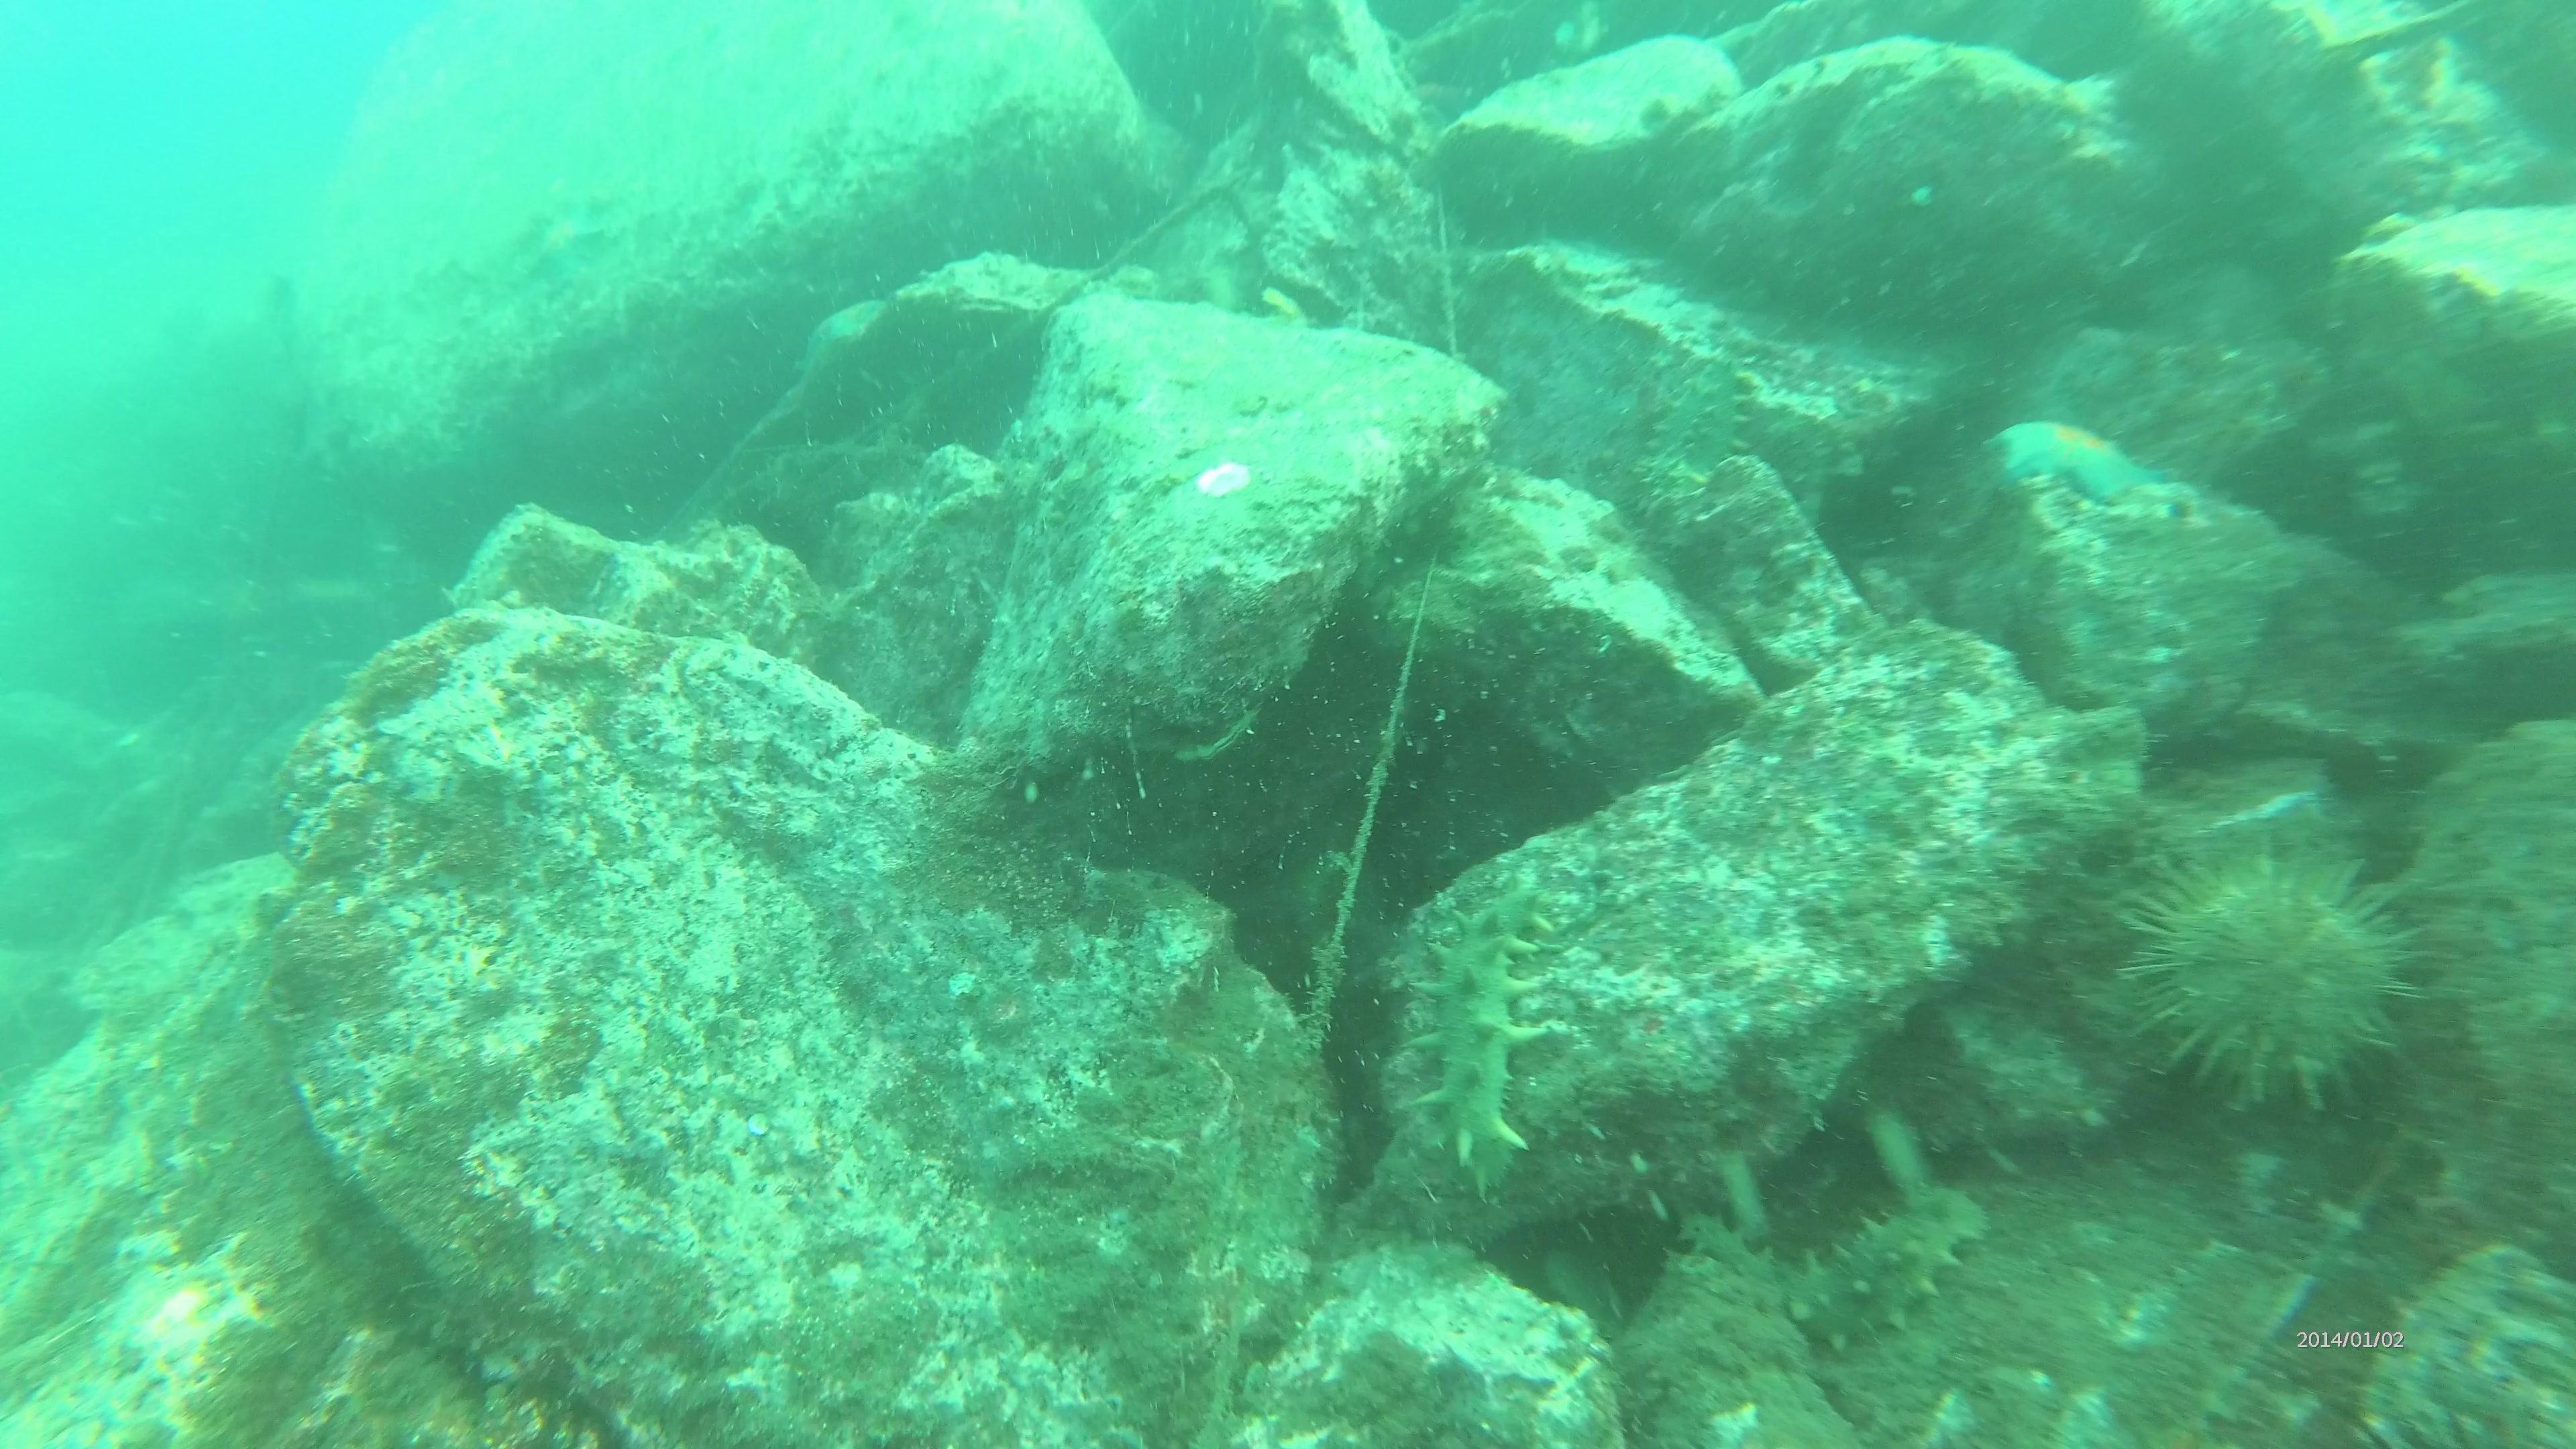echinus: (2111, 814, 2442, 1136)
holothurian: (1415, 885, 1583, 1169), (1782, 1178, 1997, 1359), (1644, 347, 1757, 529)
starfish: (1983, 416, 2171, 511)
